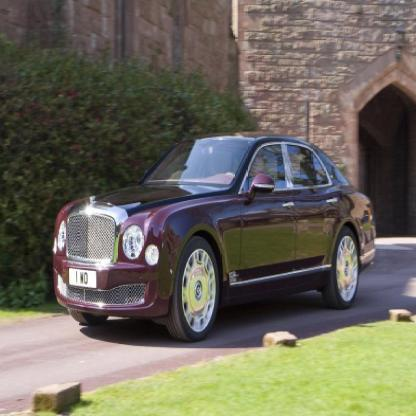Vehicle: (52, 128, 378, 348)
